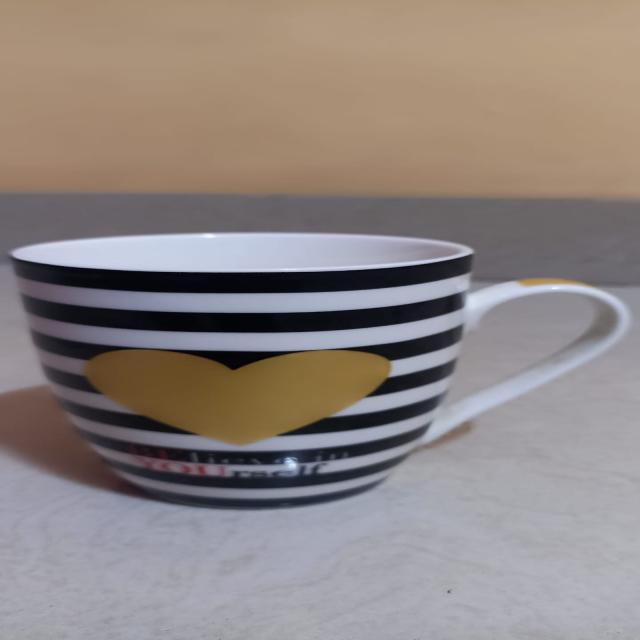cup: (6, 220, 640, 512)
